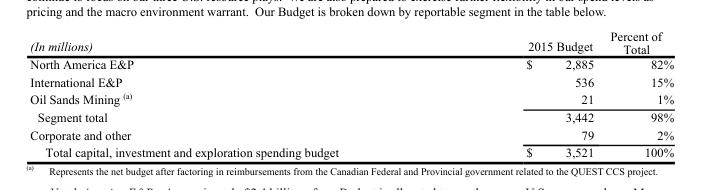table: (29, 28, 673, 159)
table column: (29, 28, 431, 159), (431, 28, 601, 159), (601, 28, 673, 159)
table column header: (29, 28, 673, 56)
table row: (29, 28, 673, 56), (29, 89, 673, 107), (29, 107, 673, 125), (29, 125, 673, 143), (29, 72, 673, 89), (29, 56, 673, 72), (29, 143, 673, 159)
